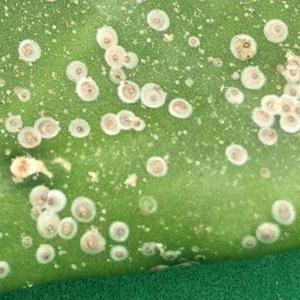Femea: (252, 124, 276, 144), (146, 11, 172, 29), (96, 28, 113, 48), (266, 22, 286, 39), (279, 114, 299, 131), (243, 70, 261, 88), (21, 40, 37, 59), (224, 87, 242, 103), (66, 121, 86, 135), (142, 87, 158, 104), (67, 62, 85, 77), (104, 48, 122, 63), (123, 50, 137, 67), (252, 111, 270, 124), (276, 96, 289, 114), (281, 83, 297, 97), (38, 247, 52, 263), (108, 248, 125, 259), (263, 97, 275, 110), (0, 259, 9, 276), (293, 99, 299, 114)
